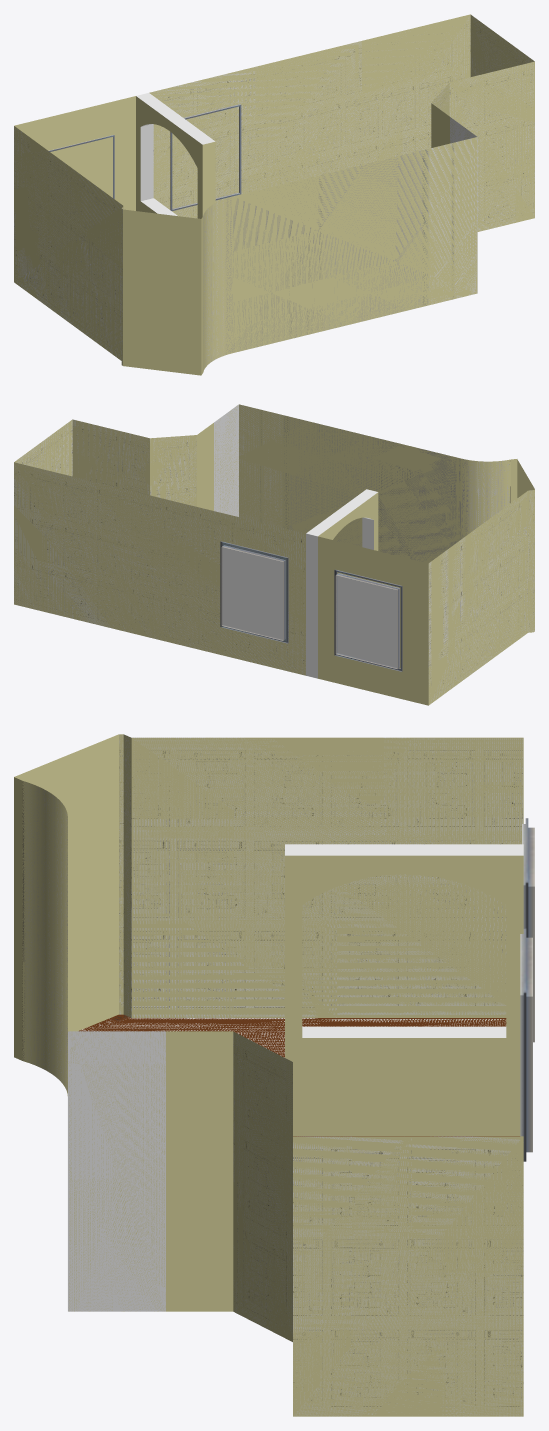
File: Loft_Tmp2.dae
3 renders of one model, top to bottom at view 1: azimuth 30°, elevation 25°; view 2: azimuth 150°, elevation 25°; view 3: azimuth 270°, elevation 25°, orthographic. The views are drawn at different scales.
Visible parts, largest first — view 1: SketchUp (×8), Window; view 2: SketchUp (×11), Window (×4); view 3: SketchUp (×9), Window (×4).
Part boxes in pixels (x1=…): SketchUp (×8): x1=14, y1=14, x2=534, y2=375; Window: x1=170, y1=104, x2=241, y2=210; SketchUp (×11): x1=14, y1=404, x2=534, y2=705; Window (×4): x1=220, y1=541, x2=402, y2=671; SketchUp (×9): x1=14, y1=734, x2=523, y2=1416; Window (×4): x1=520, y1=827, x2=534, y2=1161.
Size of what is drawn, in the model's own units: 2181 by 1194 by 709.
Materials: 4 (2 with a texture image).
